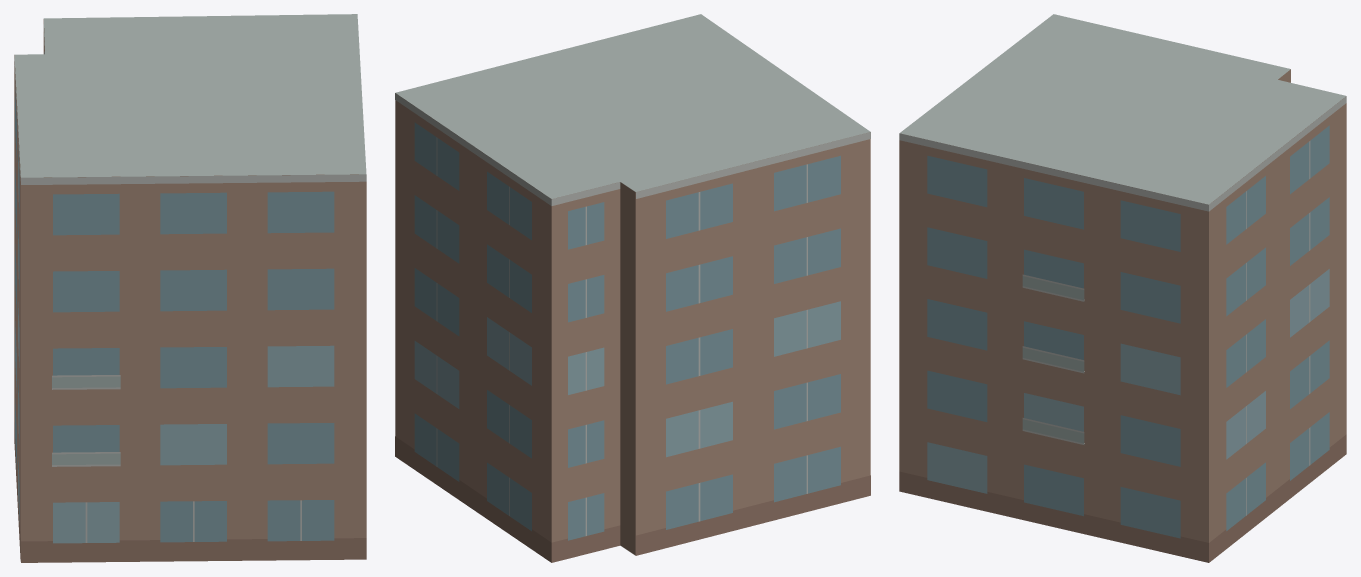
The model's file is survey-upis-32657516.glb.
3 views of the same model, side by side, from view 1: azimuth 30°, elevation 25°; view 2: azimuth 150°, elevation 25°; view 3: azimuth 270°, elevation 25° (orthographic). The views are drawn at different scales.
Parts seen in each view (by area): view 1: survey-upis-32657516.tmp; view 2: survey-upis-32657516.tmp; view 3: survey-upis-32657516.tmp.
Boxes of the visible parts, <box> form: survey-upis-32657516.tmp: <box>14,14,366,562</box>; survey-upis-32657516.tmp: <box>395,14,870,562</box>; survey-upis-32657516.tmp: <box>899,14,1346,562</box>.
Size of the model in its own units: 14.39 by 12.6 by 14.27.
